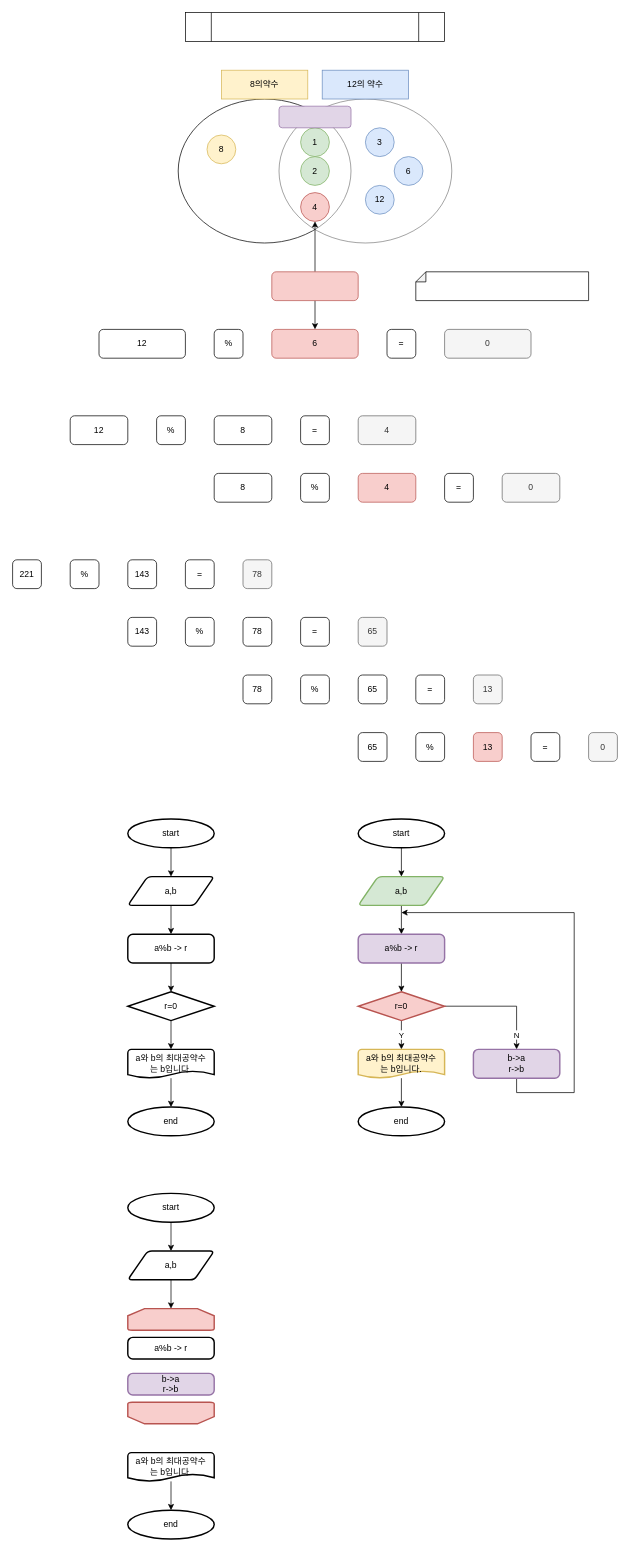
Image size: 630x1552. Some labels were removed from this diagram. The shapes that lost their labels are listed below. From the top down, each one's centre as x and y in pixels, then its label:
[315,26]: Euclidean Algorithms
[314,116]: 약수
[314,286]: 최대공약수
[502,286]: 나머지가 없이 딱 나누어 떨어지면 그 나누는데 사용된 수가 바로 최대 공약수이다.
[171,1319]: r!=0
